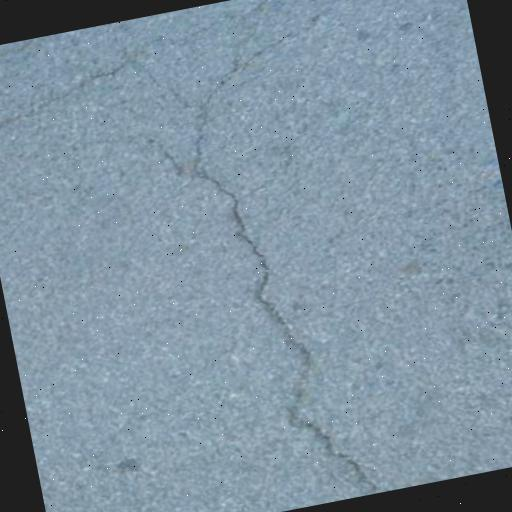spalling: (182, 0, 390, 488), (73, 120, 197, 191)
